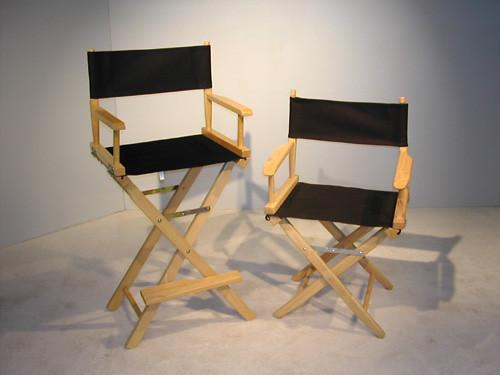chair: (86, 41, 257, 350), (263, 89, 414, 339)
